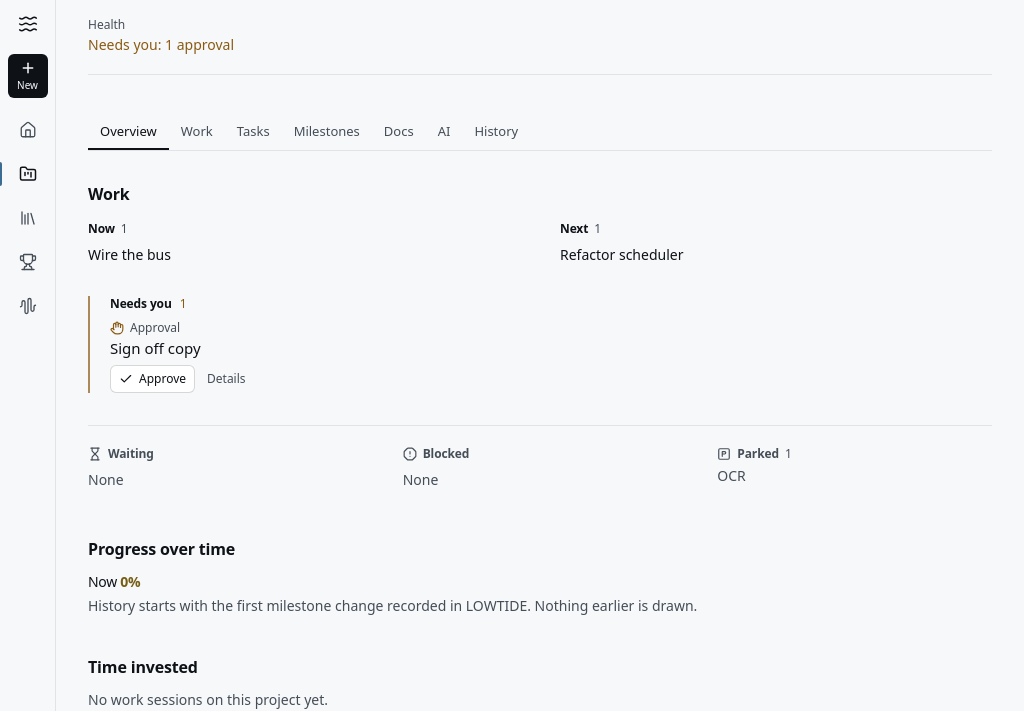
it: Project Command Room (v2 PHASE 013) › lays out the work plane: now, next and needs you first; approvals resolve in place
(page scrolled)
Expected: the element named "Project sections" is shown, [88,115,992,151]
Expected: the list item "Wire the bus" is shown, [88,245,171,264]
Click the button named "Details: Sign off copy". click: (226, 379)
box: [199,365,254,393]
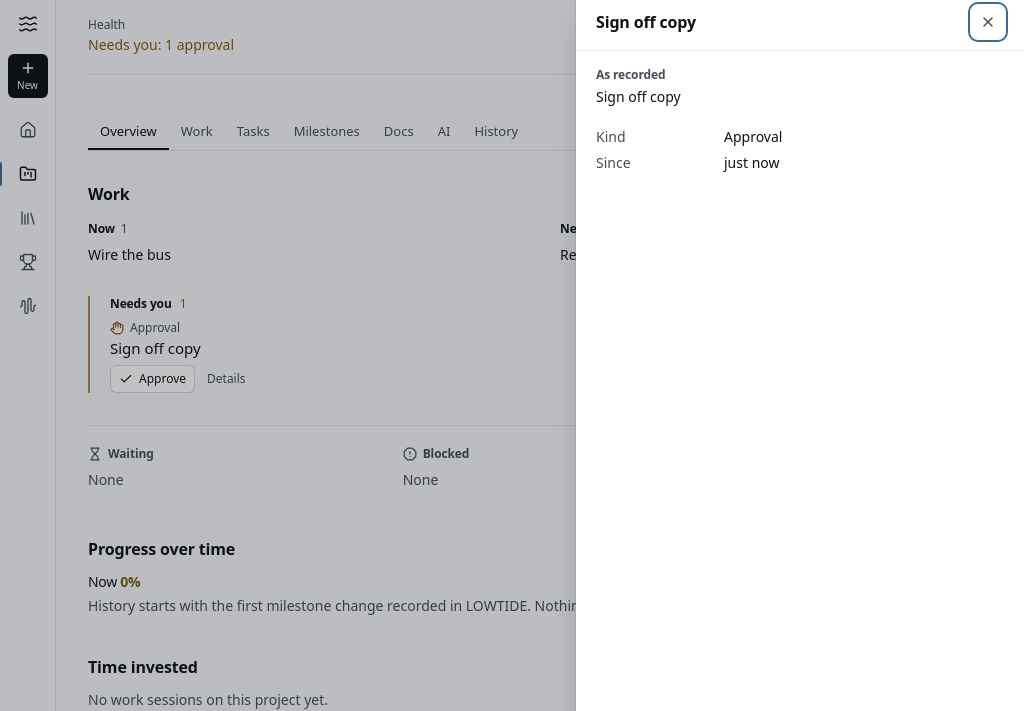
Now the heading "As recorded" is shown, box [596,66,665,83]
Click the button named "Close". click: (988, 22)
box: [972,6,1004,38]
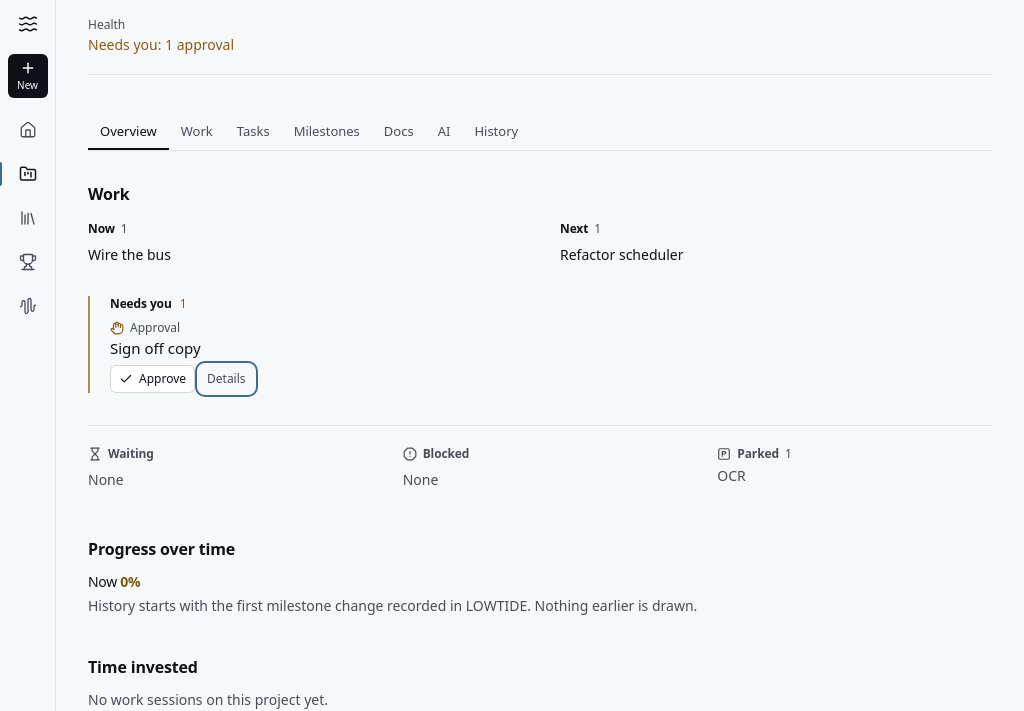
Click the button named "Approve: Sign off copy". click: (152, 379)
box: [110,365,195,393]
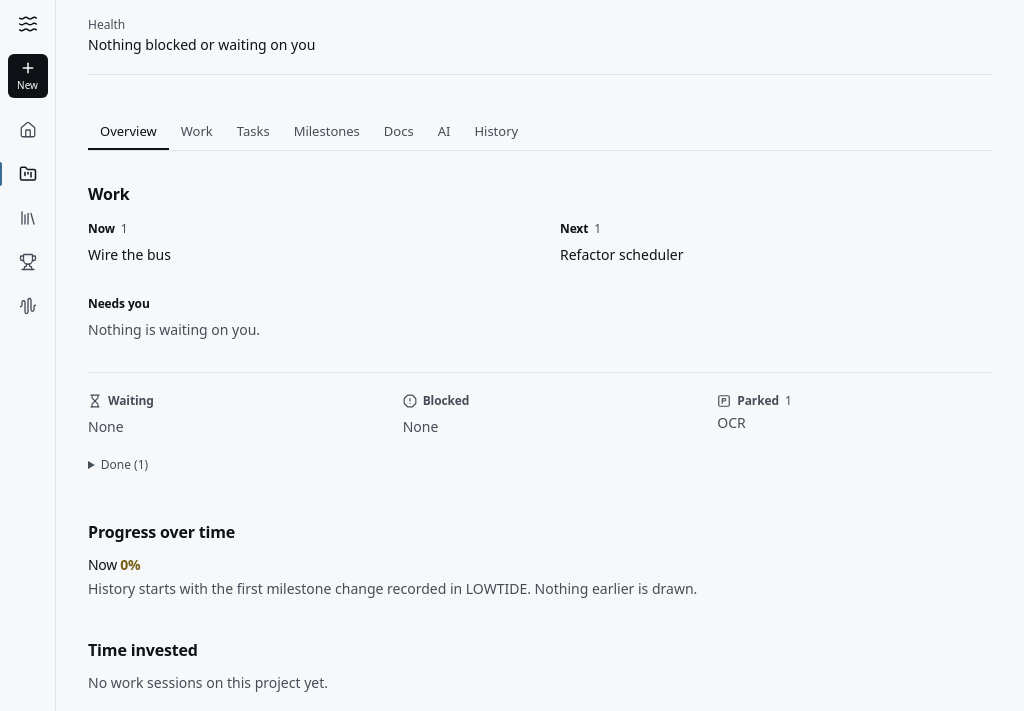
Now the text "Nothing is waiting on you." is shown, box [88,320,260,339]
Now the heading "Done (1)" is shown, box [101,456,148,473]
